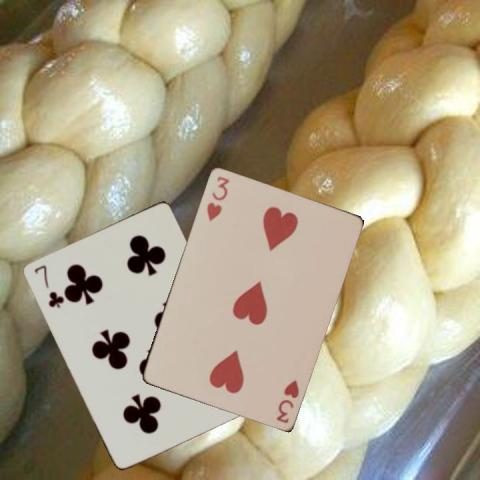3h: (203, 173, 231, 222), (273, 376, 300, 424)
7c: (31, 262, 63, 310)
